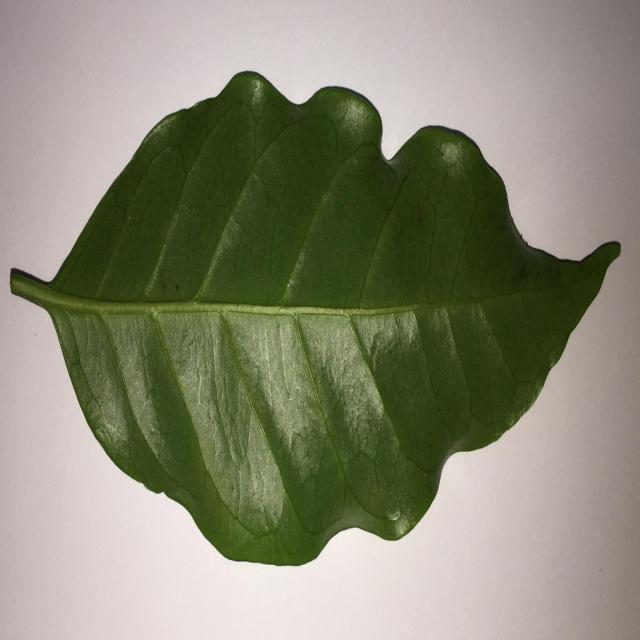Sanas: (9, 71, 622, 571)
